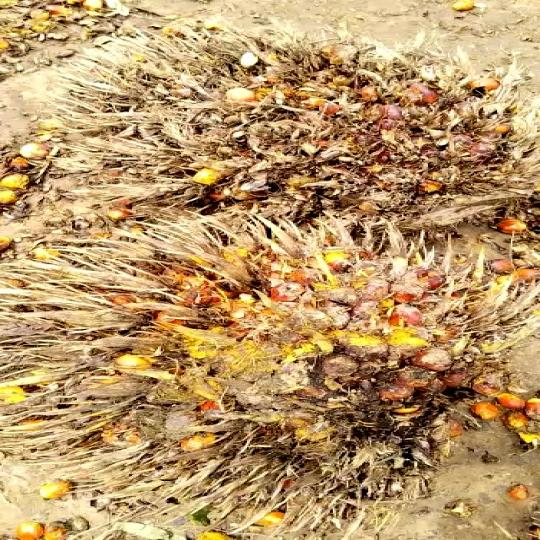terlalu masak: (0, 210, 540, 507), (50, 54, 540, 244)
